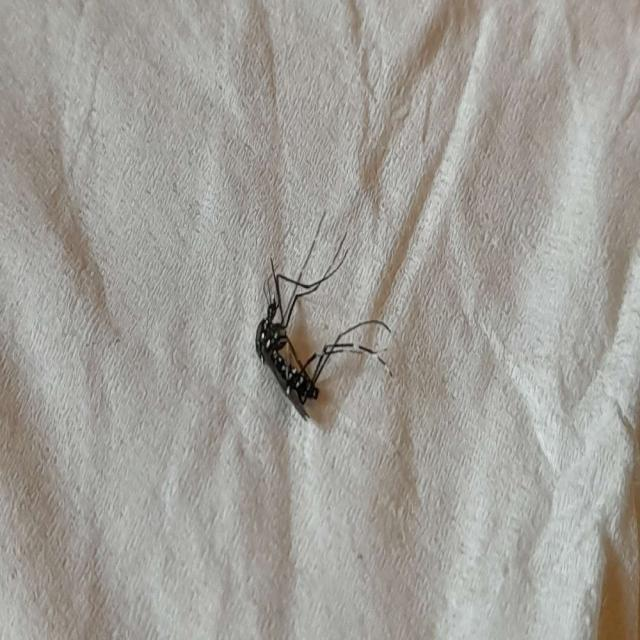albopictus: (250, 214, 394, 422)
